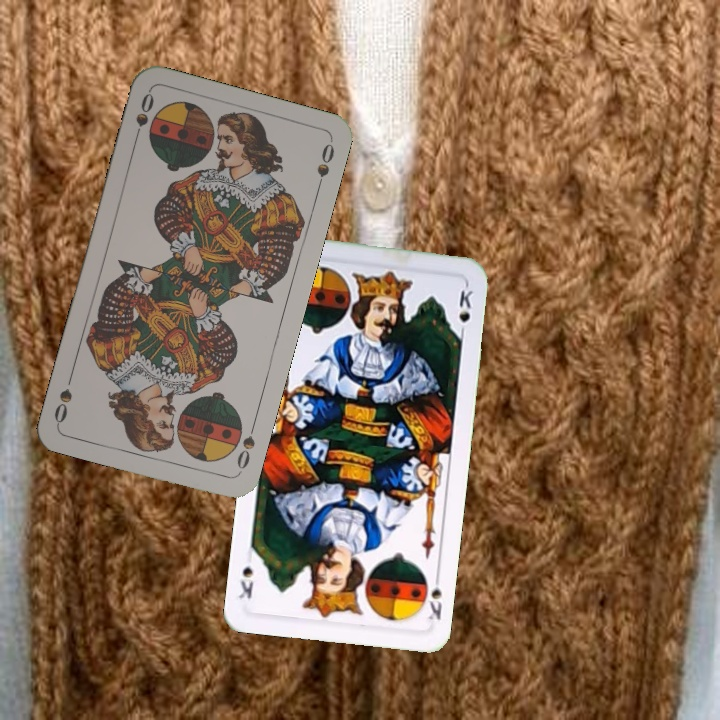SK: (424, 568, 445, 623)
SO: (129, 88, 157, 146), (232, 418, 259, 476)
